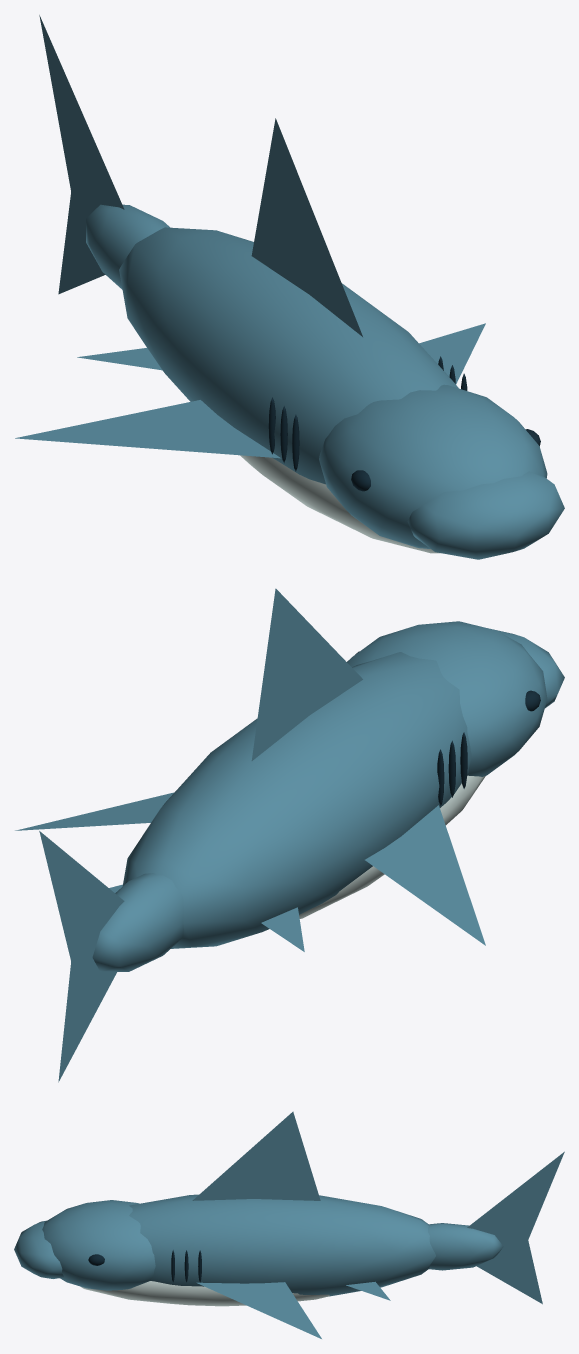
3 views of the same model, one above another, from view 1: azimuth 30°, elevation 25°; view 2: azimuth 150°, elevation 25°; view 3: azimuth 270°, elevation 25° (orthographic). The views are drawn at different scales.
Visible parts, largest first — view 1: ReefShark_Slate blue, Tail_Slate blue, Underbelly, ReefShark_Eyes; view 2: ReefShark_Slate blue, Tail_Slate blue, Underbelly, ReefShark_Eyes; view 3: ReefShark_Slate blue, Tail_Slate blue, Underbelly, ReefShark_Eyes.
Boxes of the visible parts, x1=… form: ReefShark_Slate blue: x1=15, y1=118, x2=564, y2=559; Tail_Slate blue: x1=39, y1=15, x2=169, y2=294; Underbelly: x1=240, y1=455, x2=440, y2=553; ReefShark_Eyes: x1=268, y1=356, x2=540, y2=491; ReefShark_Slate blue: x1=15, y1=588, x2=564, y2=951; Tail_Slate blue: x1=39, y1=831, x2=183, y2=1082; Underbelly: x1=299, y1=775, x2=485, y2=918; ReefShark_Eyes: x1=355, y1=651, x2=540, y2=806; ReefShark_Slate blue: x1=14, y1=1111, x2=435, y2=1338; Tail_Slate blue: x1=428, y1=1151, x2=564, y2=1304; Underbelly: x1=80, y1=1281, x2=329, y2=1306; ReefShark_Eyes: x1=88, y1=1250, x2=201, y2=1282.
Size of the model in its own units: 1.28 by 0.87 by 2.25.
